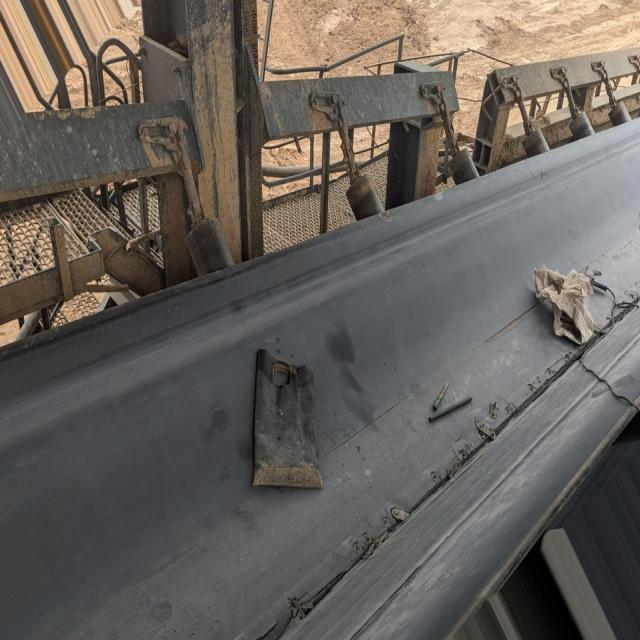Other Objects: (252, 349, 324, 488), (534, 264, 592, 348), (428, 382, 473, 422)
Roller: (522, 97, 630, 156), (187, 209, 242, 281), (342, 175, 389, 224), (447, 141, 478, 190)
Tear: (229, 293, 640, 639)
